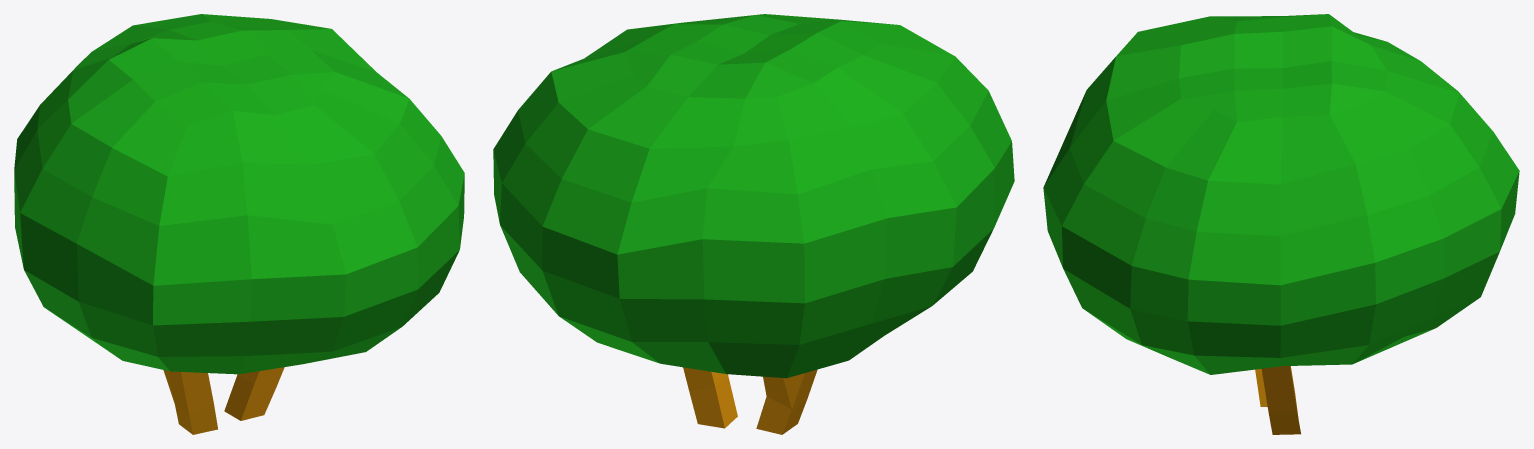
File: bush.fbx
3 renders of one model, left to right at view 1: azimuth 30°, elevation 25°; view 2: azimuth 150°, elevation 25°; view 3: azimuth 270°, elevation 25°, orthographic. The views are drawn at different scales.
Parts seen in each view (by area): view 1: Cube, Cube.001; view 2: Cube, Cube.001; view 3: Cube, Cube.001.
Boxes of the visible parts, x1=… form: Cube: x1=14, y1=14, x2=464, y2=374; Cube.001: x1=163, y1=367, x2=284, y2=434; Cube: x1=493, y1=14, x2=1014, y2=378; Cube.001: x1=683, y1=367, x2=817, y2=434; Cube: x1=1043, y1=14, x2=1519, y2=374; Cube.001: x1=1255, y1=366, x2=1300, y2=434.
Size of the model in its own units: 225 by 198 by 231.
